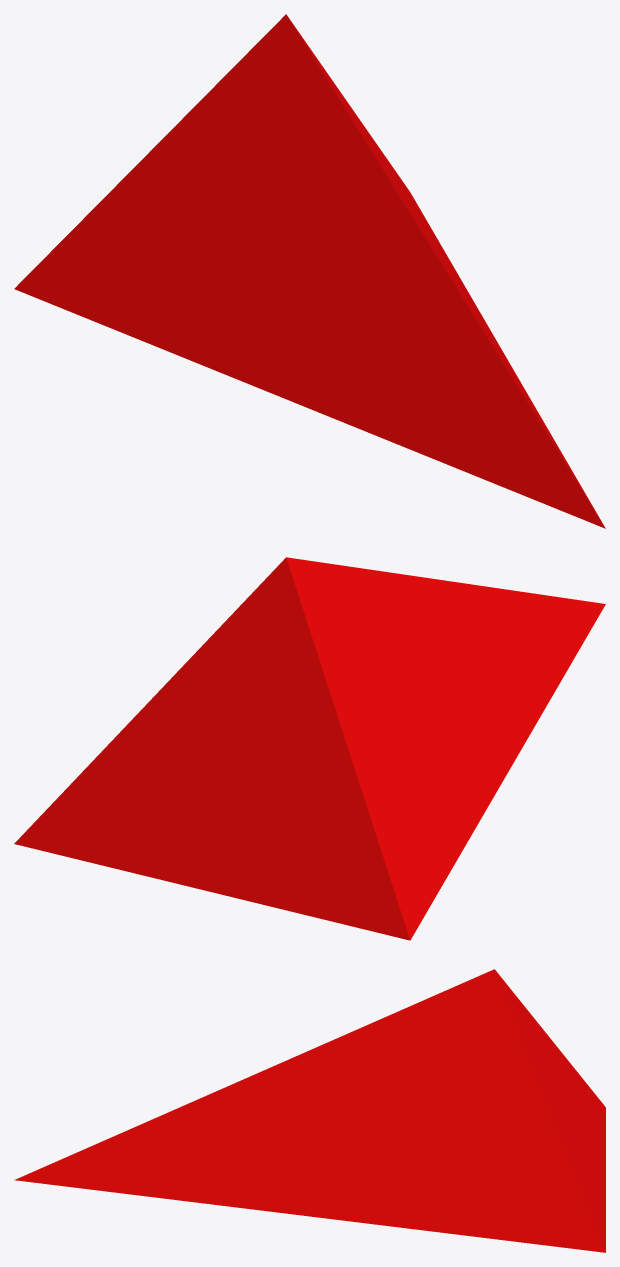
File: XG-2minimap.fbx
3 views of the same model, one above another, from view 1: azimuth 30°, elevation 25°; view 2: azimuth 150°, elevation 25°; view 3: azimuth 270°, elevation 25° (orthographic). The views are drawn at different scales.
Visible parts, largest first — view 1: minimap; view 2: minimap; view 3: minimap.
Part boxes in pixels (x1=…): minimap: x1=14, y1=14, x2=605, y2=528; minimap: x1=14, y1=557, x2=605, y2=940; minimap: x1=14, y1=969, x2=605, y2=1252.
Size of the model in its own units: 63.56 by 43.03 by 109.
